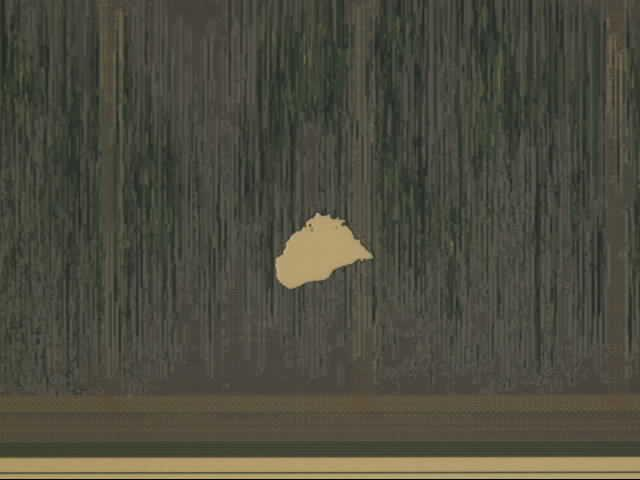BLOCK ETCH: (273, 212, 378, 294)
